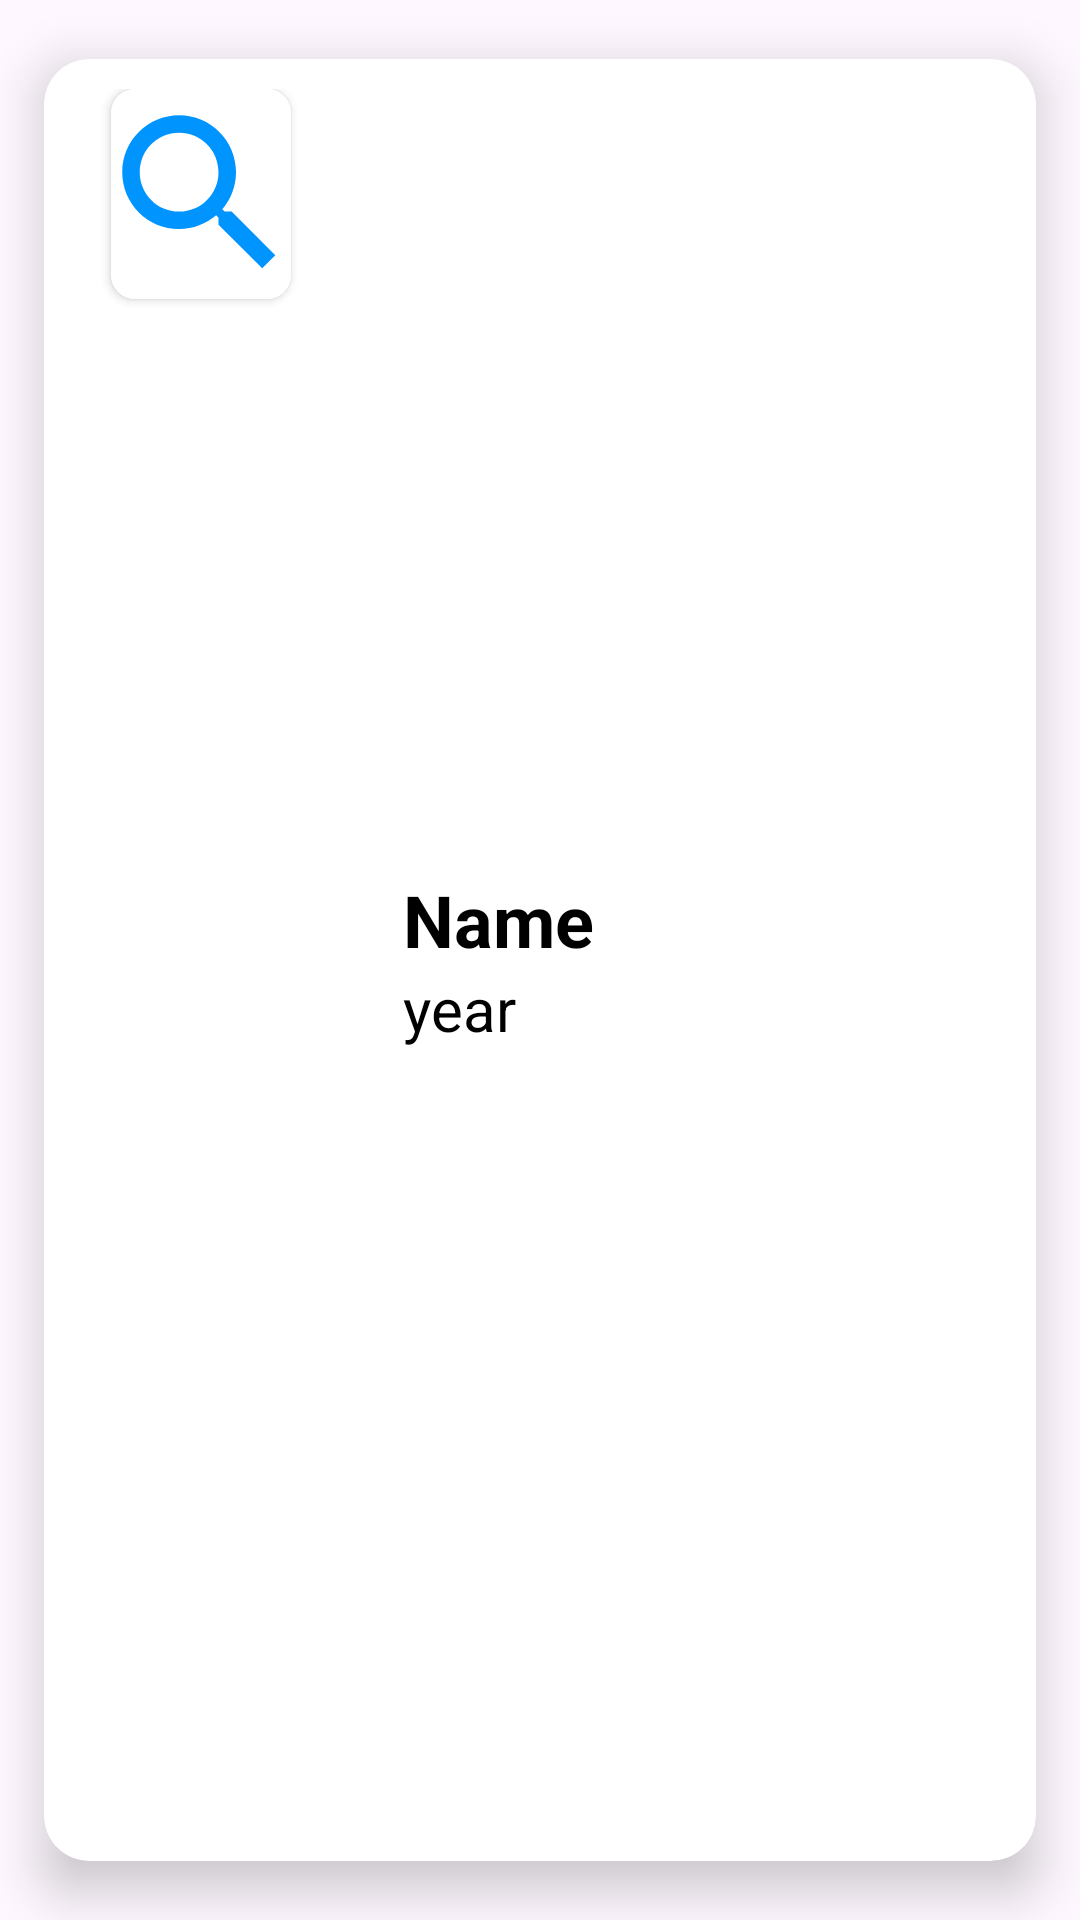

Icons on this 1080px x 1920px Android screen, each with the point to tap as (x=x, y=y):
search: (x=196, y=195)
